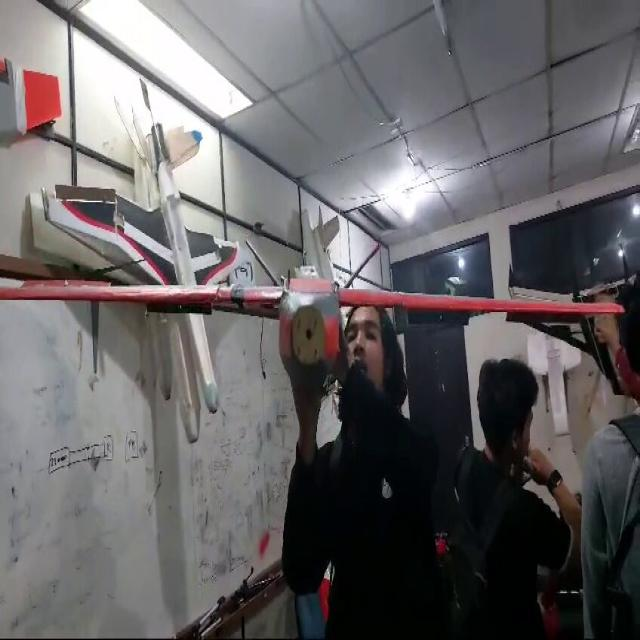plane: (0, 76, 635, 441)
